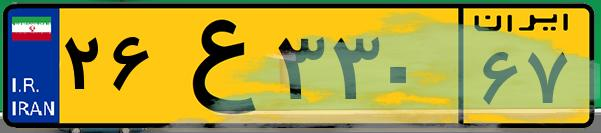0: (385, 28, 445, 110)
2: (57, 26, 110, 100)
3: (270, 28, 330, 110), (330, 28, 385, 110)
6: (475, 38, 525, 113), (110, 28, 158, 98)
7: (525, 38, 570, 115)
ع: (158, 12, 270, 120)
